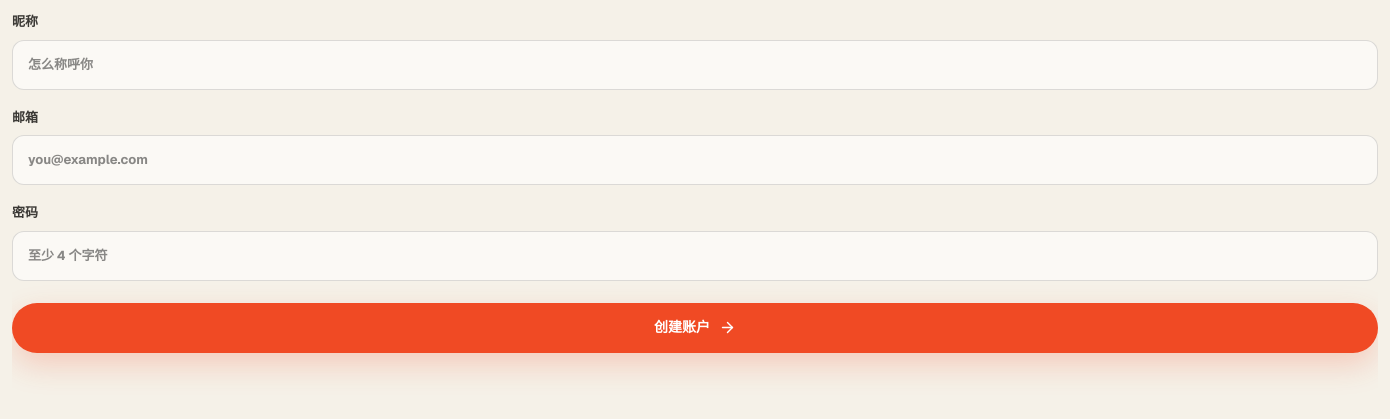
Test: RegistrationForm › validates the password before sending a request
Type "Radar User" into the field labelled "昵称". click: (695, 64)
box: [12, 40, 1378, 90]
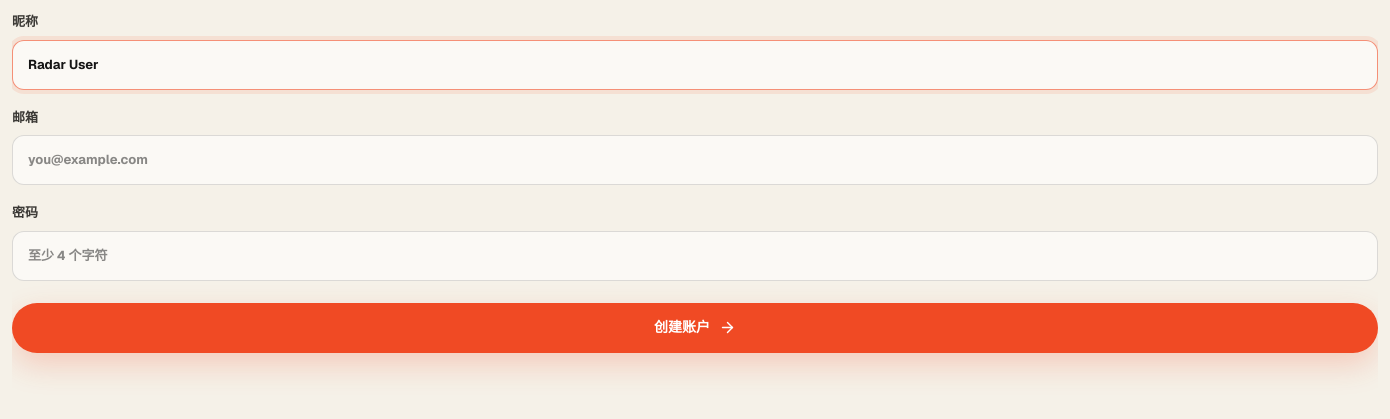
Type "user@example.com" into the field labelled "邮箱". click: (695, 160)
box: [12, 135, 1378, 185]
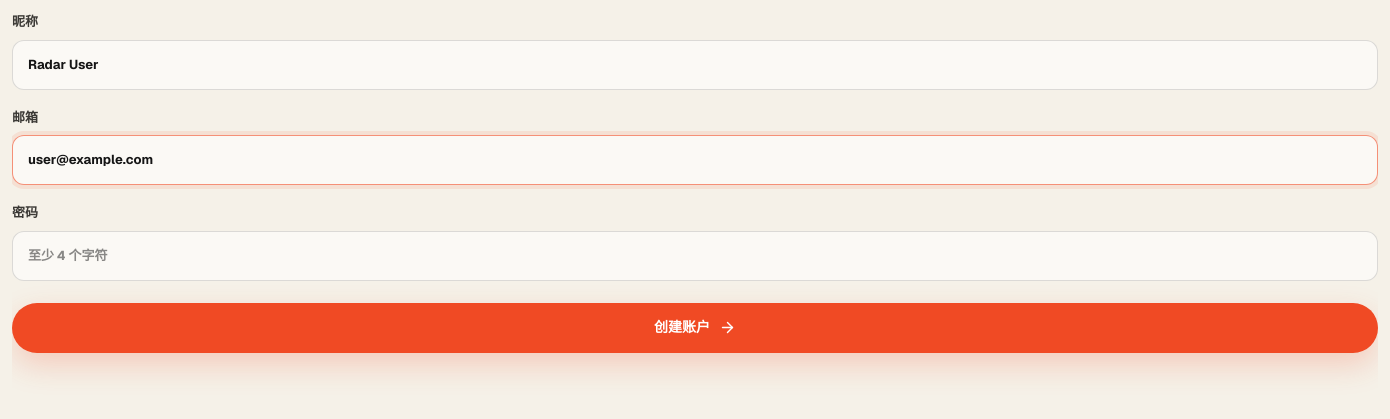
Type "abc" into the password field labelled "密码". click: (695, 256)
box: [12, 230, 1378, 280]
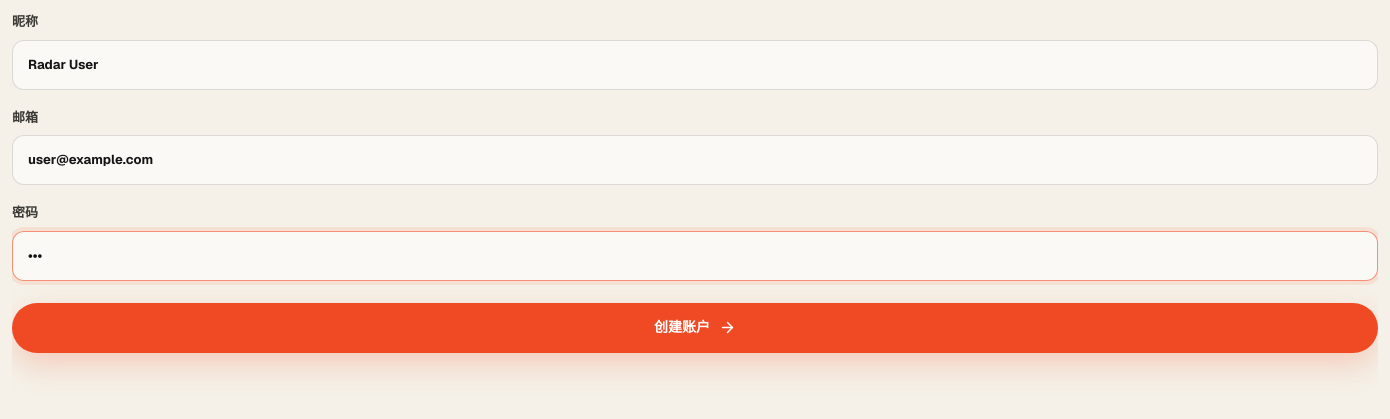
Click the button "创建账户". click: (695, 328)
box: [12, 302, 1378, 352]
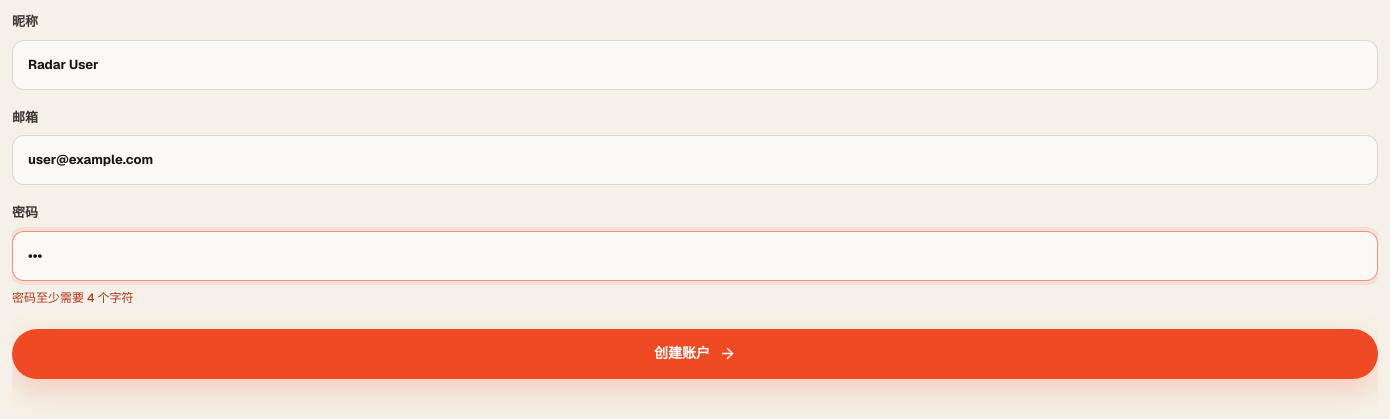
expect the text "密码至少需要 4 个字符" is shown: met, box [12, 290, 133, 306]
